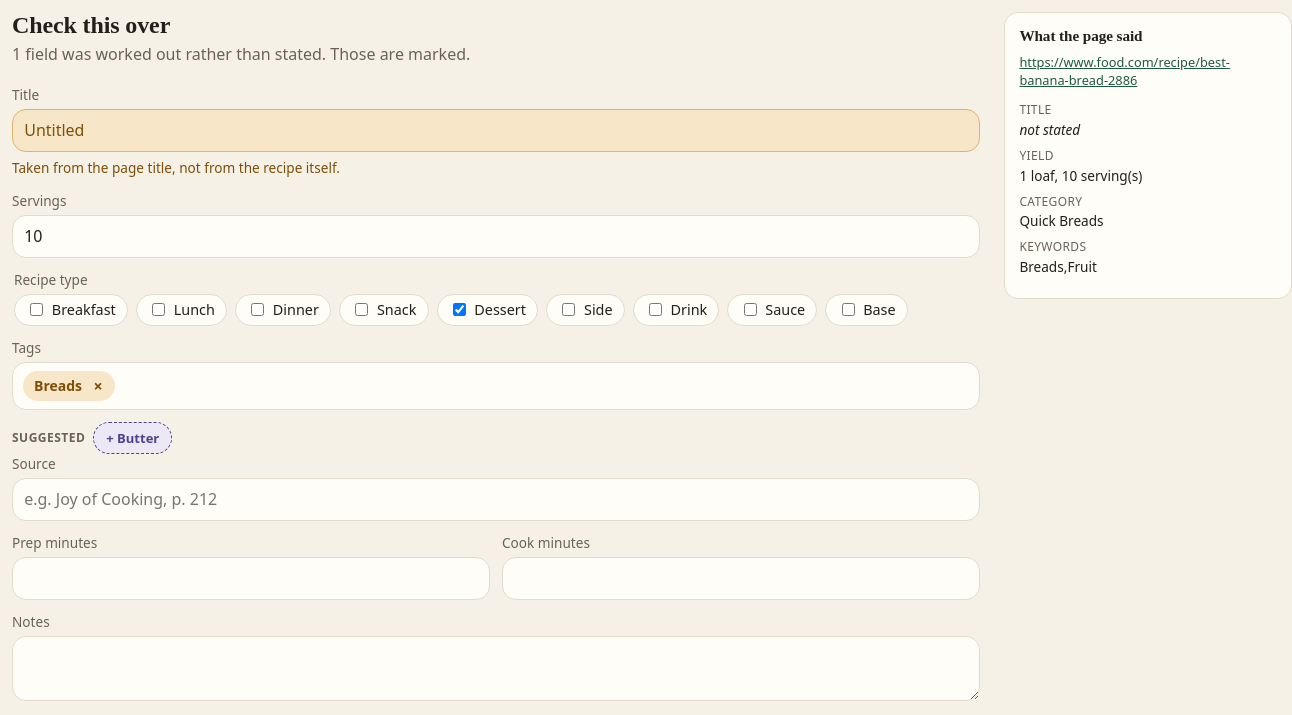
editing a flagged field clears its flag › clears the title flag once the cook types
The image size is (1292, 715).
Replace the text in the field labelled "Title" with "Banana bread". click: coordinates (496, 130)
box: [12, 109, 980, 152]
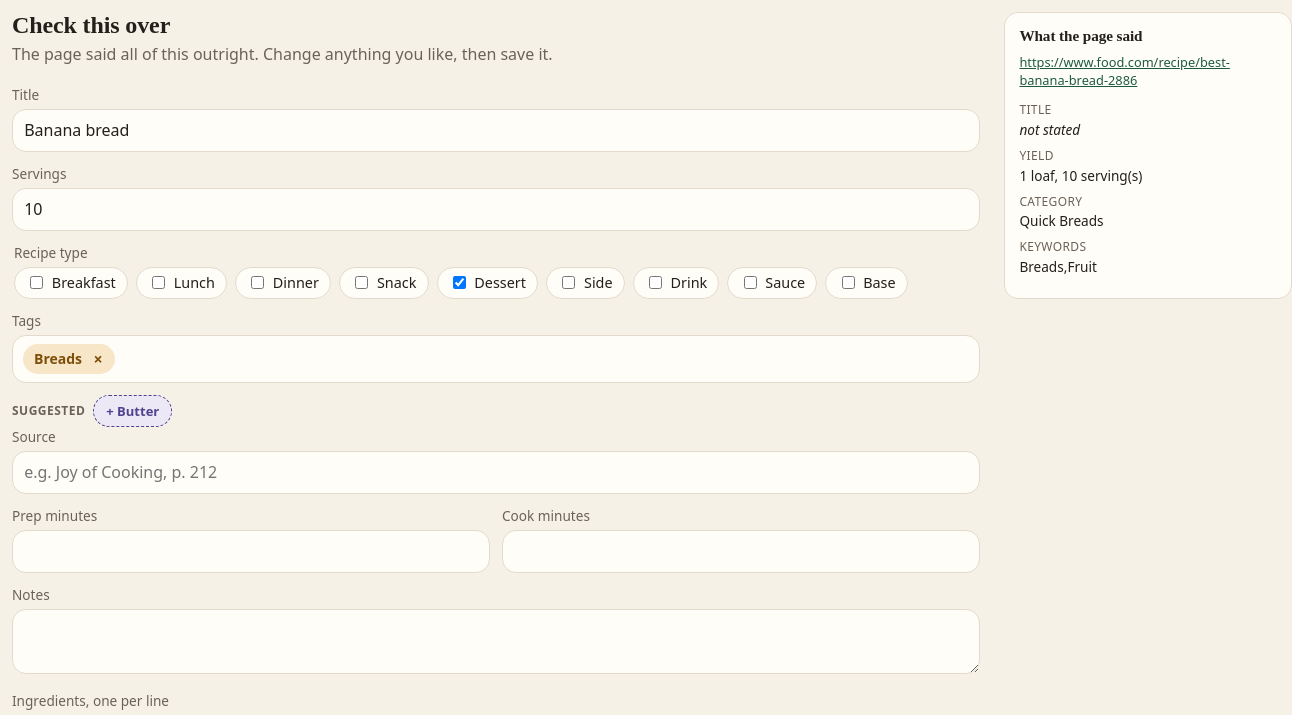
Now the text "Taken from the page title" is gone
